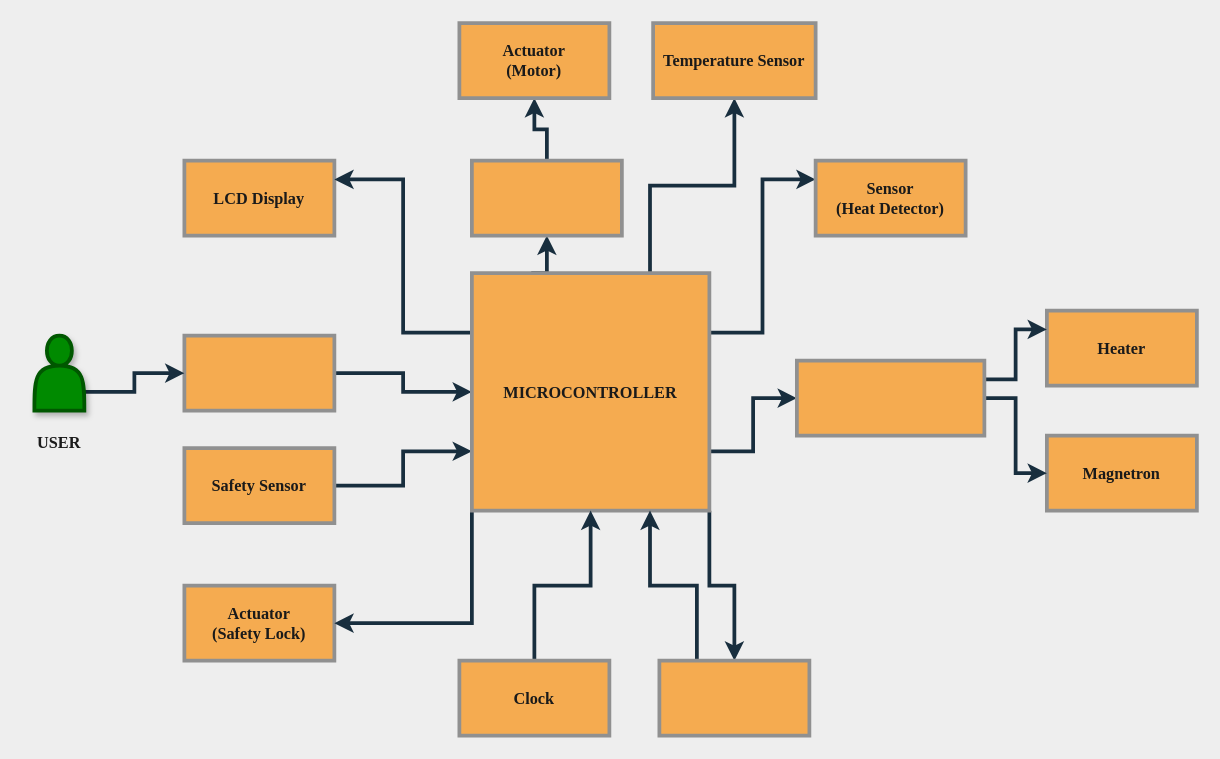
Some shapes in this 1220 by 759 pixel diagram are drawn without their labels. Each missing label, with the centre of its shape:
"Button/Touch Screen" goes at point 259,372.
"EEPROM" goes at point 734,697.
"Motor Drive" goes at point 546,197.
"Relays and Voltage Control Unit" goes at point 890,397.
